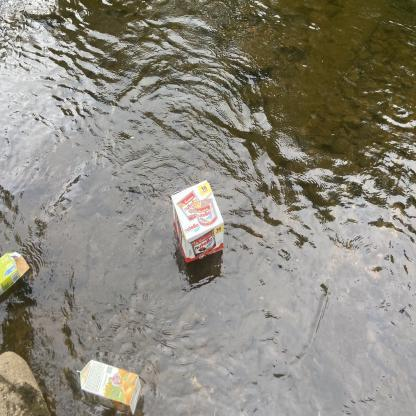trash: (170, 174, 228, 269), (73, 355, 142, 416), (0, 244, 35, 304)
